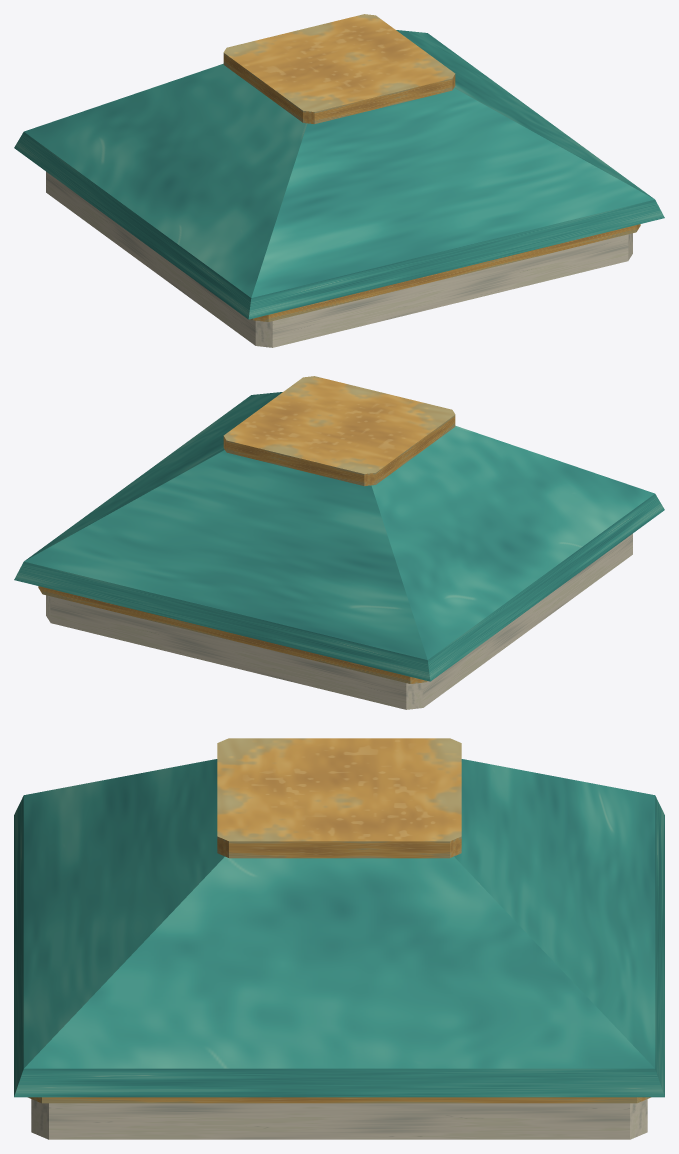
The model's file is Canopy5.fbx.
3 renders of one model, top to bottom at view 1: azimuth 30°, elevation 25°; view 2: azimuth 150°, elevation 25°; view 3: azimuth 270°, elevation 25°, orthographic. The views are drawn at different scales.
Parts seen in each view (by area): view 1: Canopy5; view 2: Canopy5; view 3: Canopy5.
Boxes of the visible parts, x1,y1,x2,y2 form: Canopy5: [14, 14, 664, 347]; Canopy5: [14, 376, 664, 709]; Canopy5: [14, 738, 664, 1139].
Bounding box in the file's own units: 574 × 211 × 560.
Materials: 1 (1 with a texture image).
